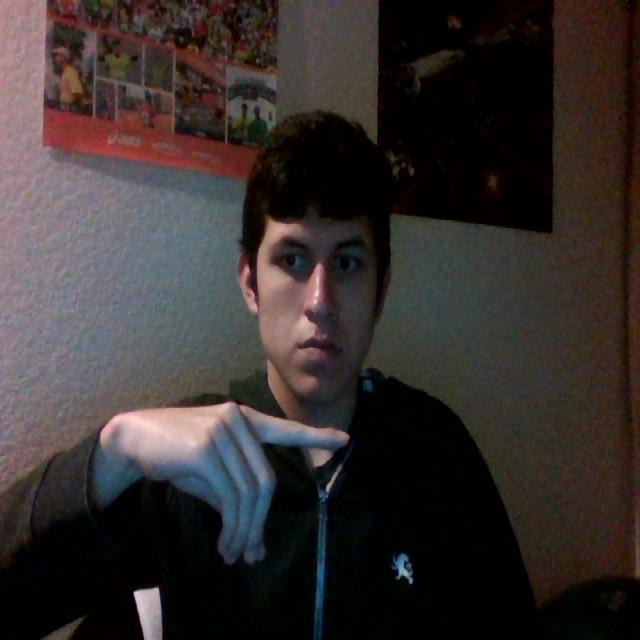P: (70, 335, 402, 561)
